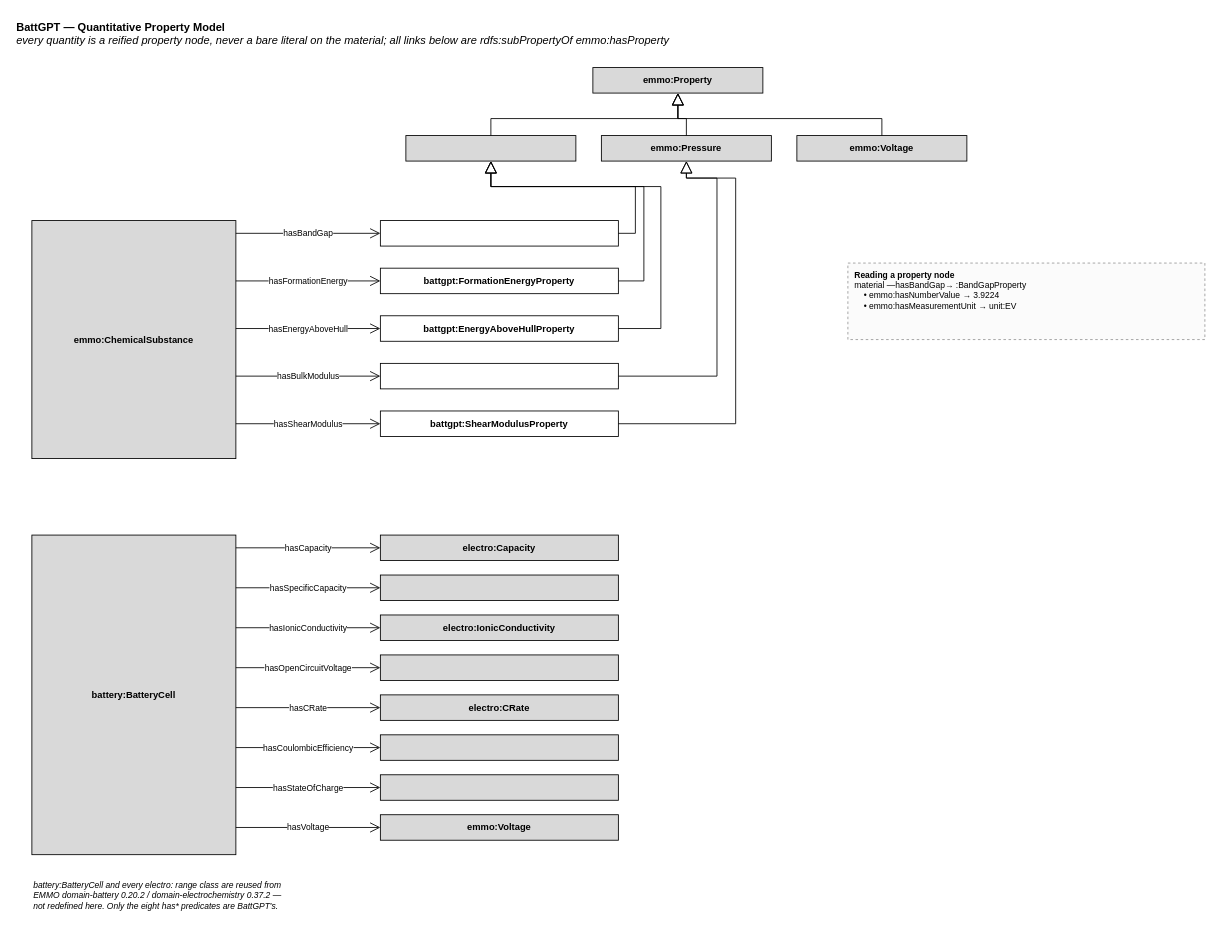
The diagram is 1220 pixels wide and 949 high, and some of its shapes have lost their labels. The box of each missing label's shape, as (x1, y1, x2, y2) in pixels:
battgpt:BandGapProperty: (380, 220, 618, 246)
battgpt:BulkModulusProperty: (380, 363, 618, 389)
electro:CoulombicEfficiency: (380, 734, 618, 760)
electro:OpenCircuitVoltage: (380, 654, 618, 680)
electro:SpecificCapacity: (380, 574, 618, 601)
electro:StateOfCharge: (380, 774, 618, 800)
emmo:Energy: (405, 135, 576, 161)
